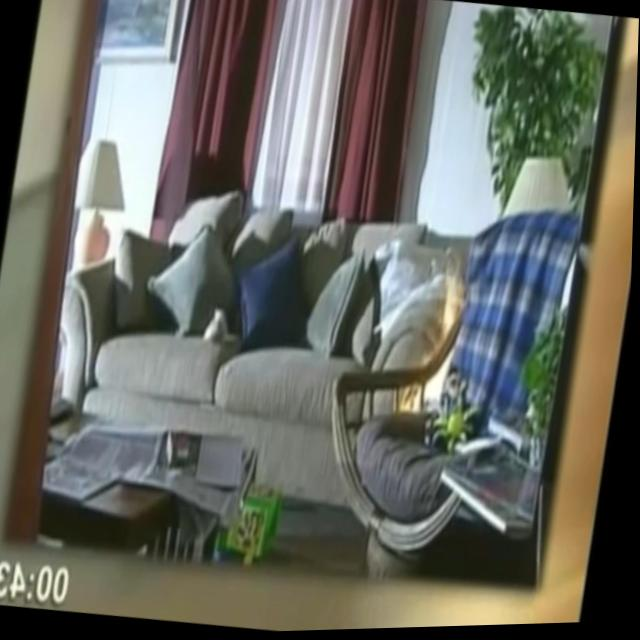fire: (403, 269, 471, 422)
